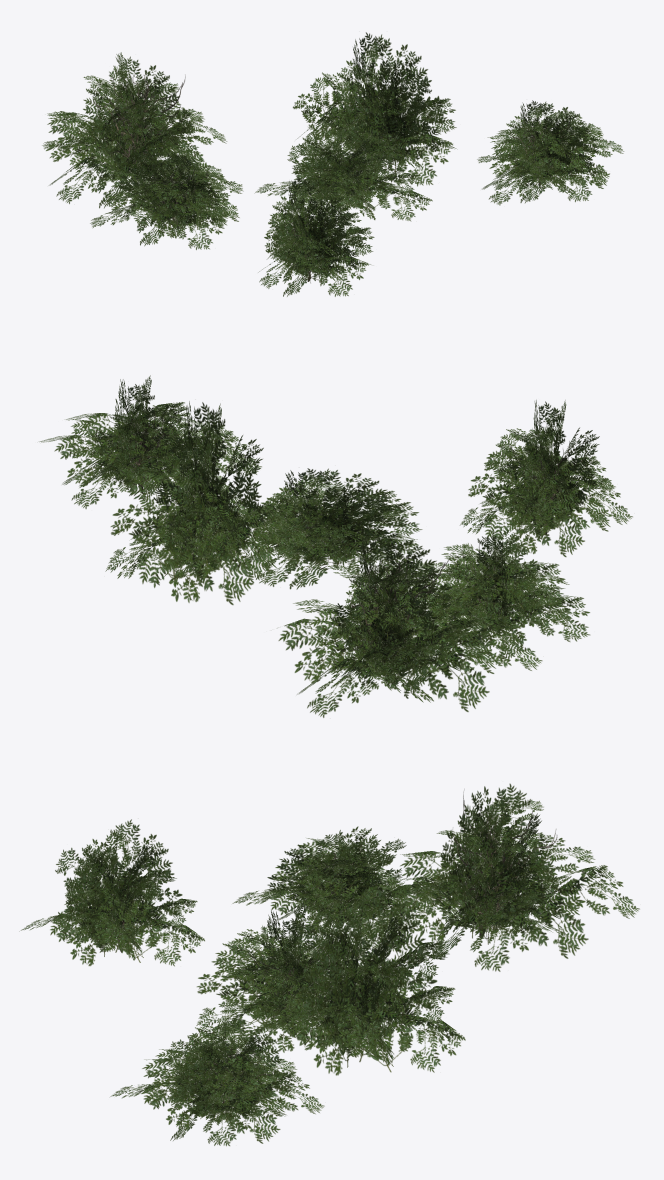
Rendered from bush908.glb.
The picture shows the model from 3 angles, top to bottom: view 1: azimuth 30°, elevation 25°; view 2: azimuth 150°, elevation 25°; view 3: azimuth 270°, elevation 25°; orthographic projection. The views are drawn at different scales.
Visible parts, largest first — view 1: bush908; view 2: bush908; view 3: bush908.
Part boxes in pixels (left/top/right/bottom): bush908: left=42, top=32, right=623, bottom=296; bush908: left=39, top=375, right=632, bottom=717; bush908: left=19, top=783, right=639, bottom=1146.
Bounding box in the file's own units: 12.04 × 3.88 × 10.49.
2 materials, 2 textured.
